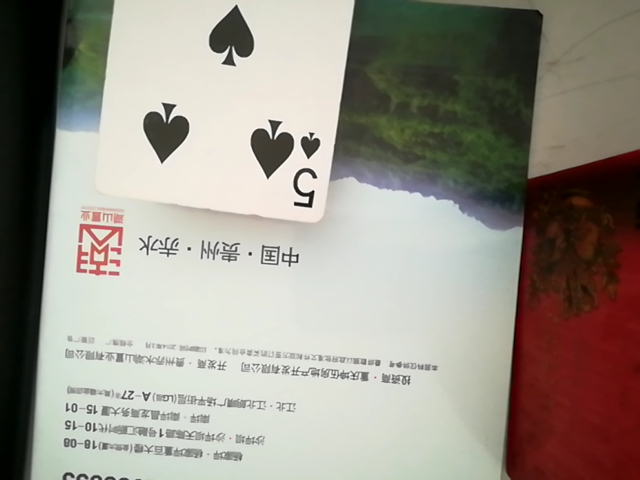ht 5: (92, 0, 370, 230)
